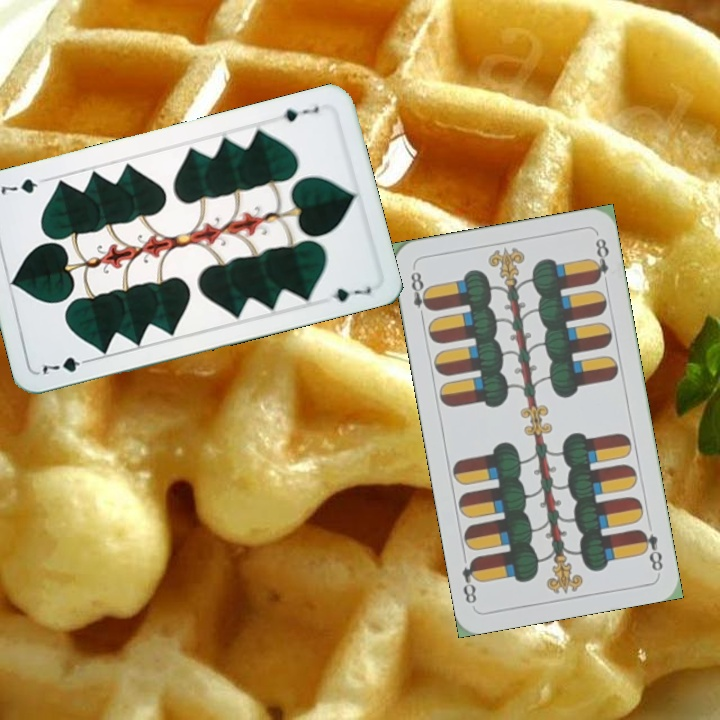E8: (406, 267, 435, 323), (635, 525, 665, 574)
G7: (38, 353, 95, 378), (279, 102, 322, 125)
